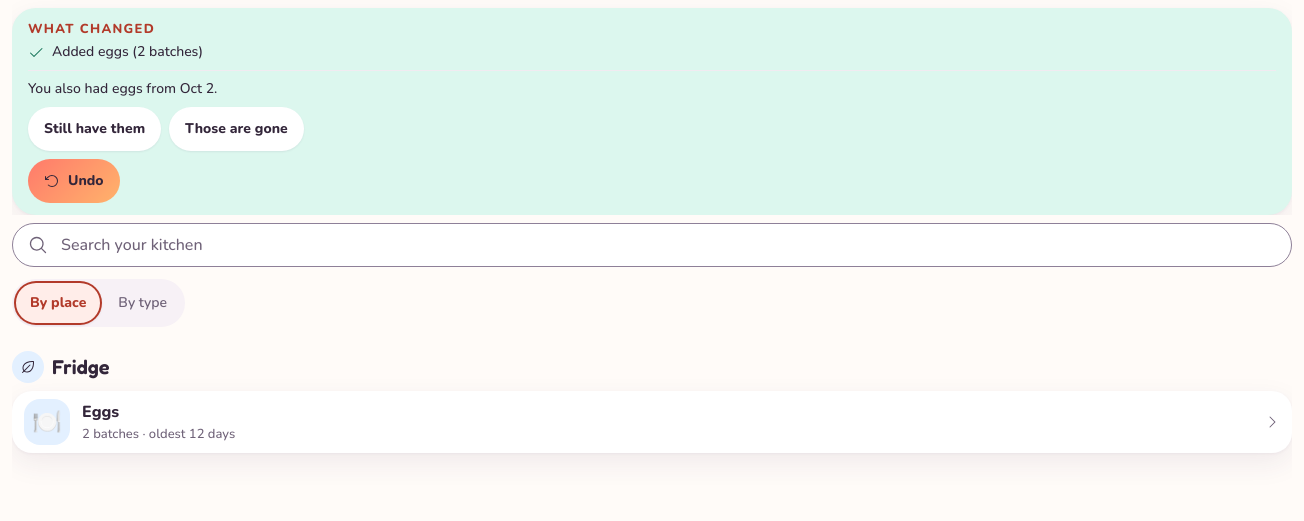
Test case: Receipt batch choice › a failed tap says nothing changed and keeps the buttons, focus on the choice
Click the button with aria-label "Those are gone: eggs from Oct 2" at (236, 129), box [169, 107, 304, 151]
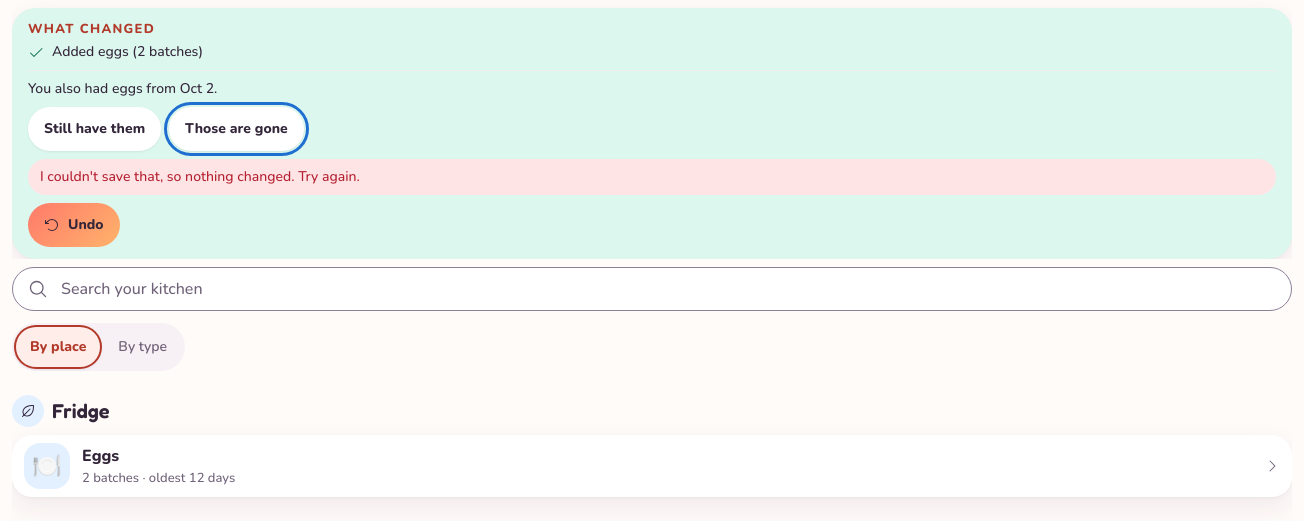
Check: the text "I couldn't save that, so nothing changed. Try again." is shown, box [28, 159, 1276, 195]
